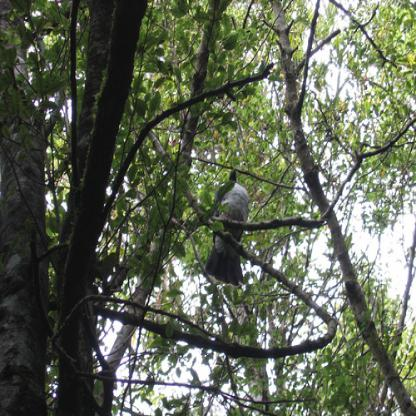bird: (200, 166, 250, 288)
